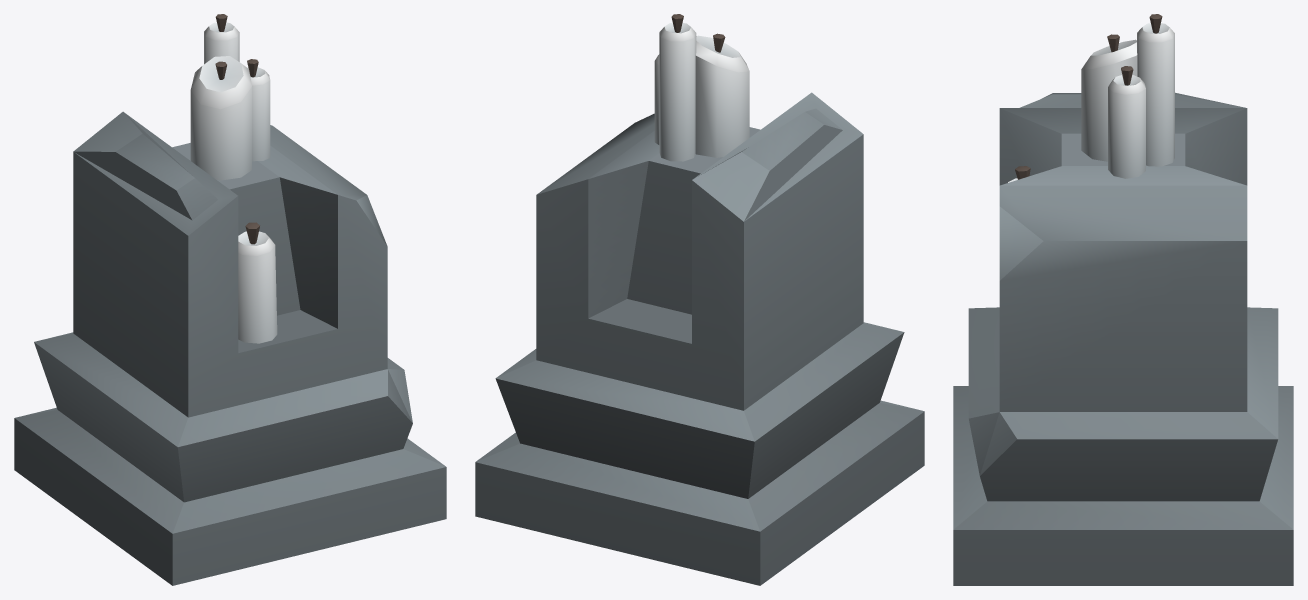
The model's file is shrine_candles.obj.
3 views of the same model, side by side, from view 1: azimuth 30°, elevation 25°; view 2: azimuth 150°, elevation 25°; view 3: azimuth 270°, elevation 25° (orthographic). The views are drawn at different scales.
Visible parts, largest first — view 1: shrine_candles_Cube.620; view 2: shrine_candles_Cube.620; view 3: shrine_candles_Cube.620.
Part boxes in pixels (x1,y1,x2,y2): shrine_candles_Cube.620: [14, 14, 446, 585]; shrine_candles_Cube.620: [475, 14, 924, 585]; shrine_candles_Cube.620: [953, 14, 1293, 585].
Bounding box in the file's own units: 1.1 × 1.79 × 1.1.
1 material, 1 textured.
